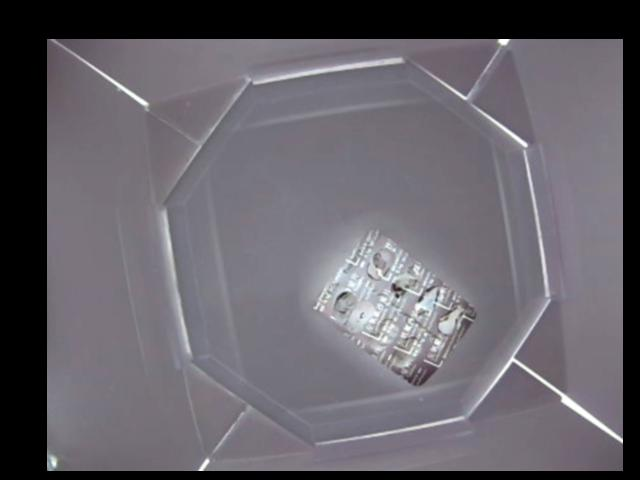Medicine: (312, 228, 475, 386)
